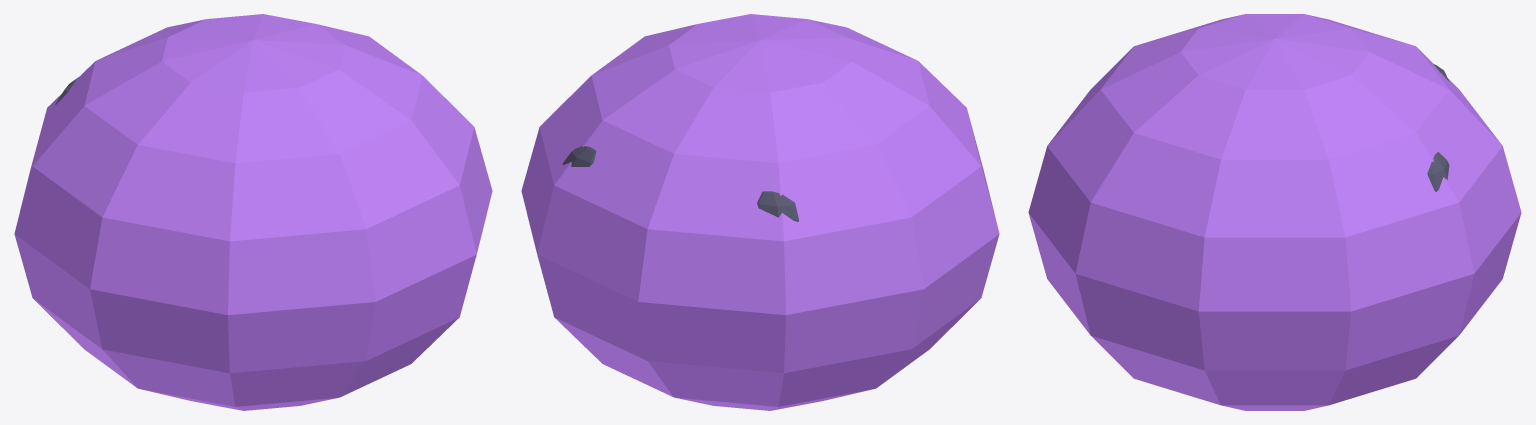
Rendered from void.glb.
3 views of the same model, side by side, from view 1: azimuth 30°, elevation 25°; view 2: azimuth 150°, elevation 25°; view 3: azimuth 270°, elevation 25° (orthographic).
Parts seen in each view (by area): view 1: void; view 2: void; view 3: void.
Part boxes in pixels (<box>): void: <box>14,14,492,410</box>; void: <box>521,14,999,410</box>; void: <box>1028,14,1521,410</box>.
Bounding box in the file's own units: 0.856 × 0.7 × 0.9.
